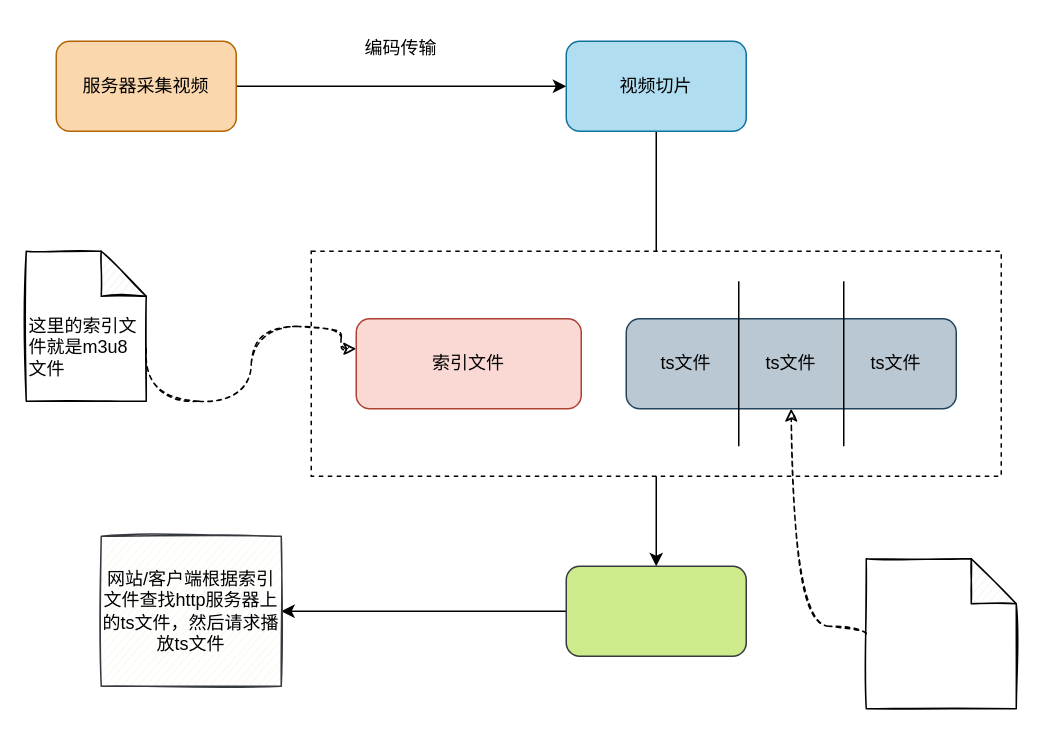
Some shapes in this 1043 by 735 pixel diagram are drawn without their labels. The box of each missing label's shape, as (x1, y1, x2, y2) in pixels:
http服务器: (565, 565, 746, 656)
这里的TS文件是一种视频格式，全程 MPEG2-TS: (865, 557, 1016, 709)
